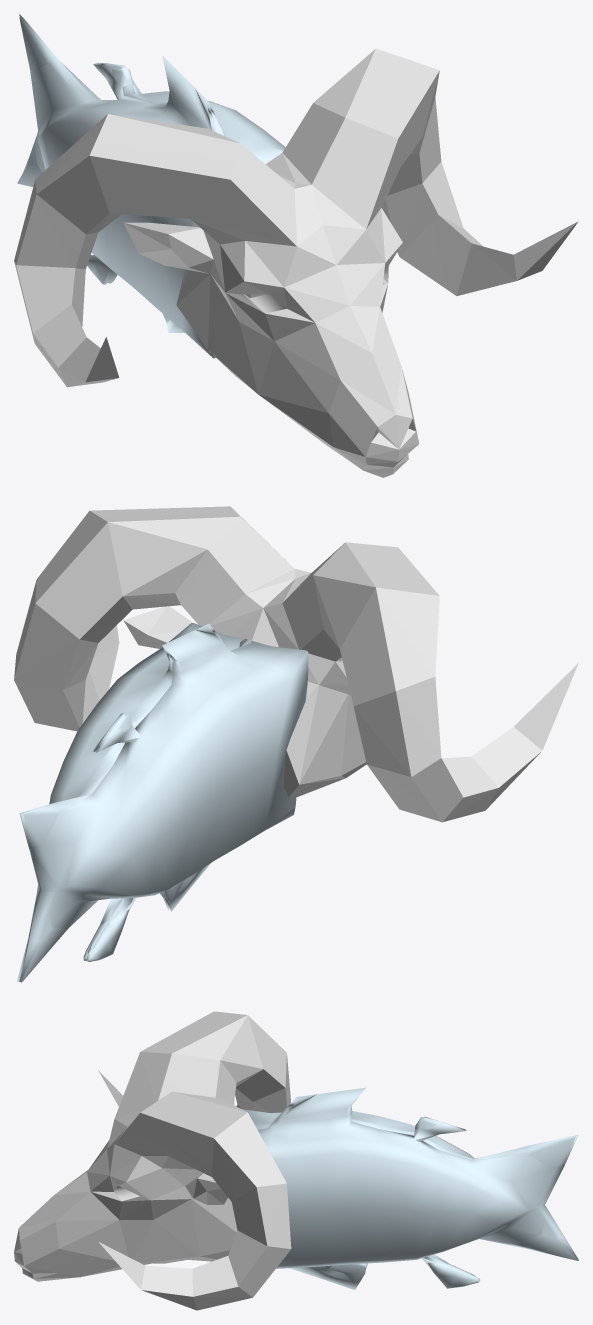
The model's file is pezborego.fbx.
3 views of the same model, one above another, from view 1: azimuth 30°, elevation 25°; view 2: azimuth 150°, elevation 25°; view 3: azimuth 270°, elevation 25° (orthographic). The views are drawn at different scales.
Parts seen in each view (by area): view 1: Rams Head, Cube; view 2: Rams Head, Cube; view 3: Rams Head, Cube.
Boxes of the visible parts, bbox=[...] form: Rams Head: bbox=[14, 48, 578, 477]; Cube: bbox=[17, 14, 285, 358]; Rams Head: bbox=[14, 506, 578, 822]; Cube: bbox=[17, 623, 308, 982]; Rams Head: bbox=[14, 1011, 291, 1310]; Cube: bbox=[242, 1087, 578, 1289].
Size of the model in its own units: 1166 by 717 by 1624.
